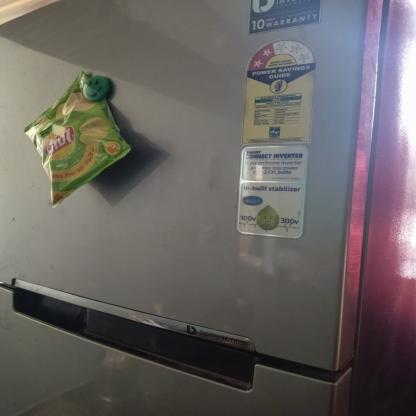cream_and_onion: (22, 71, 131, 209)
